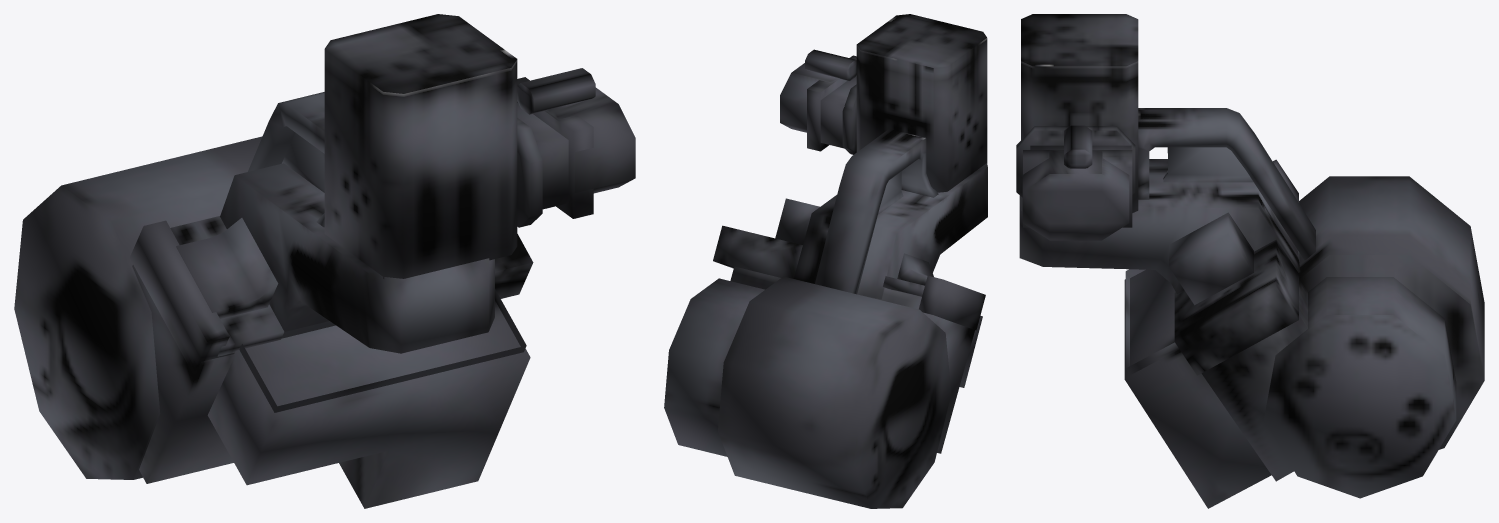
File: l_clav.dae
3 views of the same model, side by side, from view 1: azimuth 30°, elevation 25°; view 2: azimuth 150°, elevation 25°; view 3: azimuth 270°, elevation 25° (orthographic). The views are drawn at different scales.
Parts seen in each view (by area): view 1: l_clav; view 2: l_clav; view 3: l_clav.
Part boxes in pixels (x1=…): l_clav: x1=14, y1=14, x2=635, y2=508; l_clav: x1=664, y1=14, x2=987, y2=508; l_clav: x1=1016, y1=14, x2=1484, y2=508.
Size of the model in its own units: 0.1202 by 0.1828 by 0.1793.
Materials: 1 (1 with a texture image).
